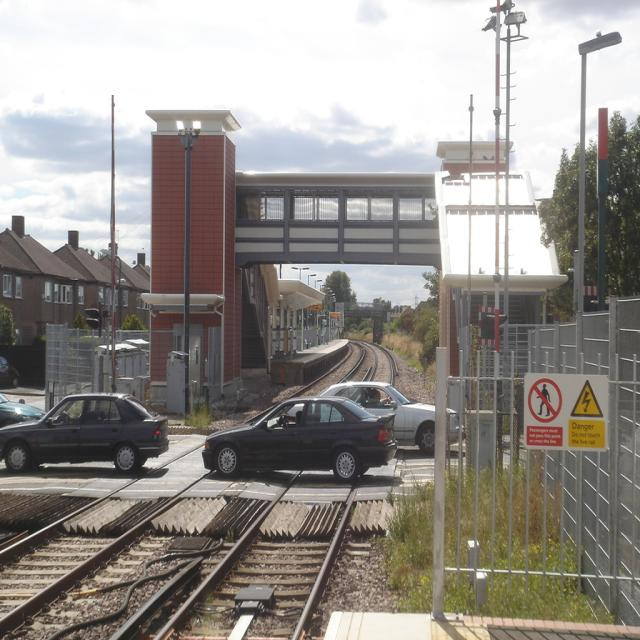car: (202, 394, 395, 481)
